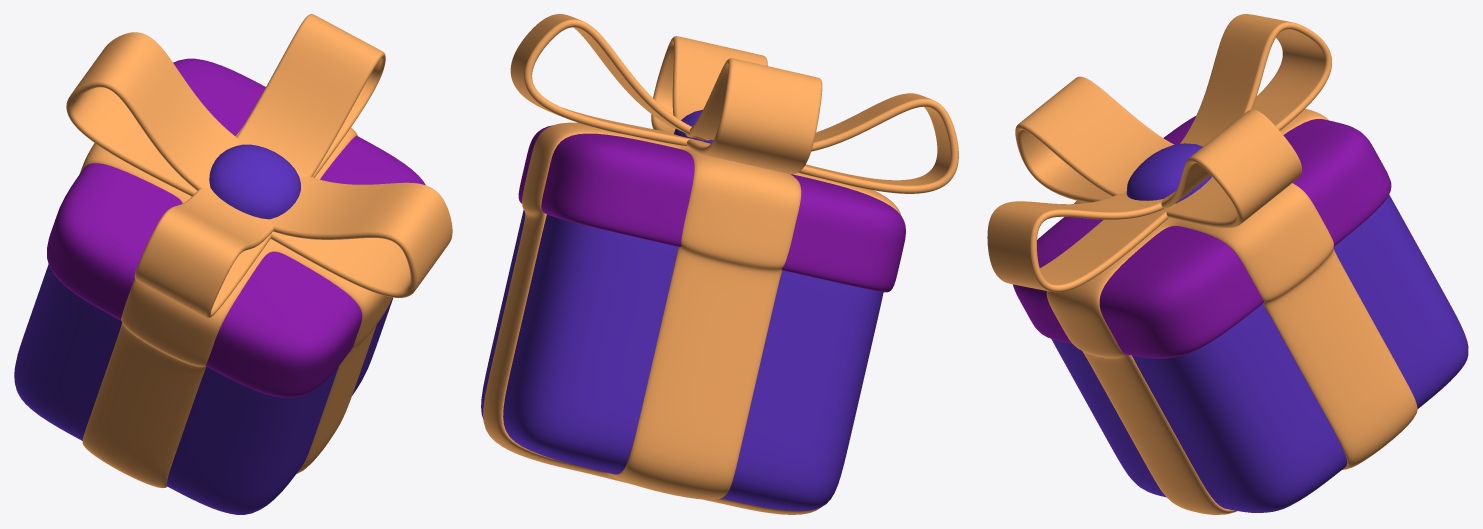
Rendered from Gift.glb.
The picture shows the model from 3 angles, left to right: view 1: azimuth 30°, elevation 25°; view 2: azimuth 150°, elevation 25°; view 3: azimuth 270°, elevation 25°; orthographic projection. The views are drawn at different scales.
Visible parts, largest first — view 1: Cube.001, BezierCurve.002, Cube, BezierCurve.003, Cube.002, Cube.004; view 2: Cube, Cube.002, Cube.001, BezierCurve.002, BezierCurve.003; view 3: Cube, Cube.002, Cube.001, BezierCurve.003, BezierCurve.002, Cube.004.
Boxes of the visible parts, left/top/right/bottom form: Cube.001: left=47, top=58, right=425, bottom=397; BezierCurve.002: left=66, top=32, right=452, bottom=297; Cube: left=14, top=264, right=392, bottom=514; BezierCurve.003: left=134, top=14, right=385, bottom=318; Cube.002: left=79, top=128, right=392, bottom=488; Cube.004: left=209, top=144, right=300, bottom=219; Cube: left=481, top=210, right=883, bottom=511; Cube.002: left=483, top=122, right=901, bottom=514; Cube.001: left=518, top=125, right=905, bottom=292; BezierCurve.002: left=651, top=36, right=822, bottom=174; BezierCurve.003: left=510, top=14, right=958, bottom=193; Cube: left=1051, top=194, right=1468, bottom=512; Cube.002: left=1046, top=108, right=1417, bottom=514; Cube.001: left=1013, top=116, right=1391, bottom=358; BezierCurve.003: left=1015, top=76, right=1301, bottom=227; BezierCurve.002: left=987, top=14, right=1331, bottom=292; Cube.004: left=1126, top=143, right=1211, bottom=203.
Bounding box in the file's own units: 4.79 × 5.86 × 5.76.
